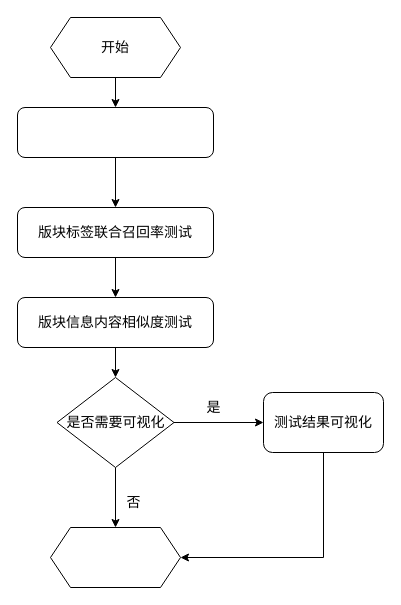
The diagram is 401 pixels wide and 605 high, and some of its shapes have lost their labels. Here are the shapes that lost their labels. From the top down, the centre of each, then its label:
At pixel 115 132: "版块标签召回率测试".
At pixel 115 557: "结束".
